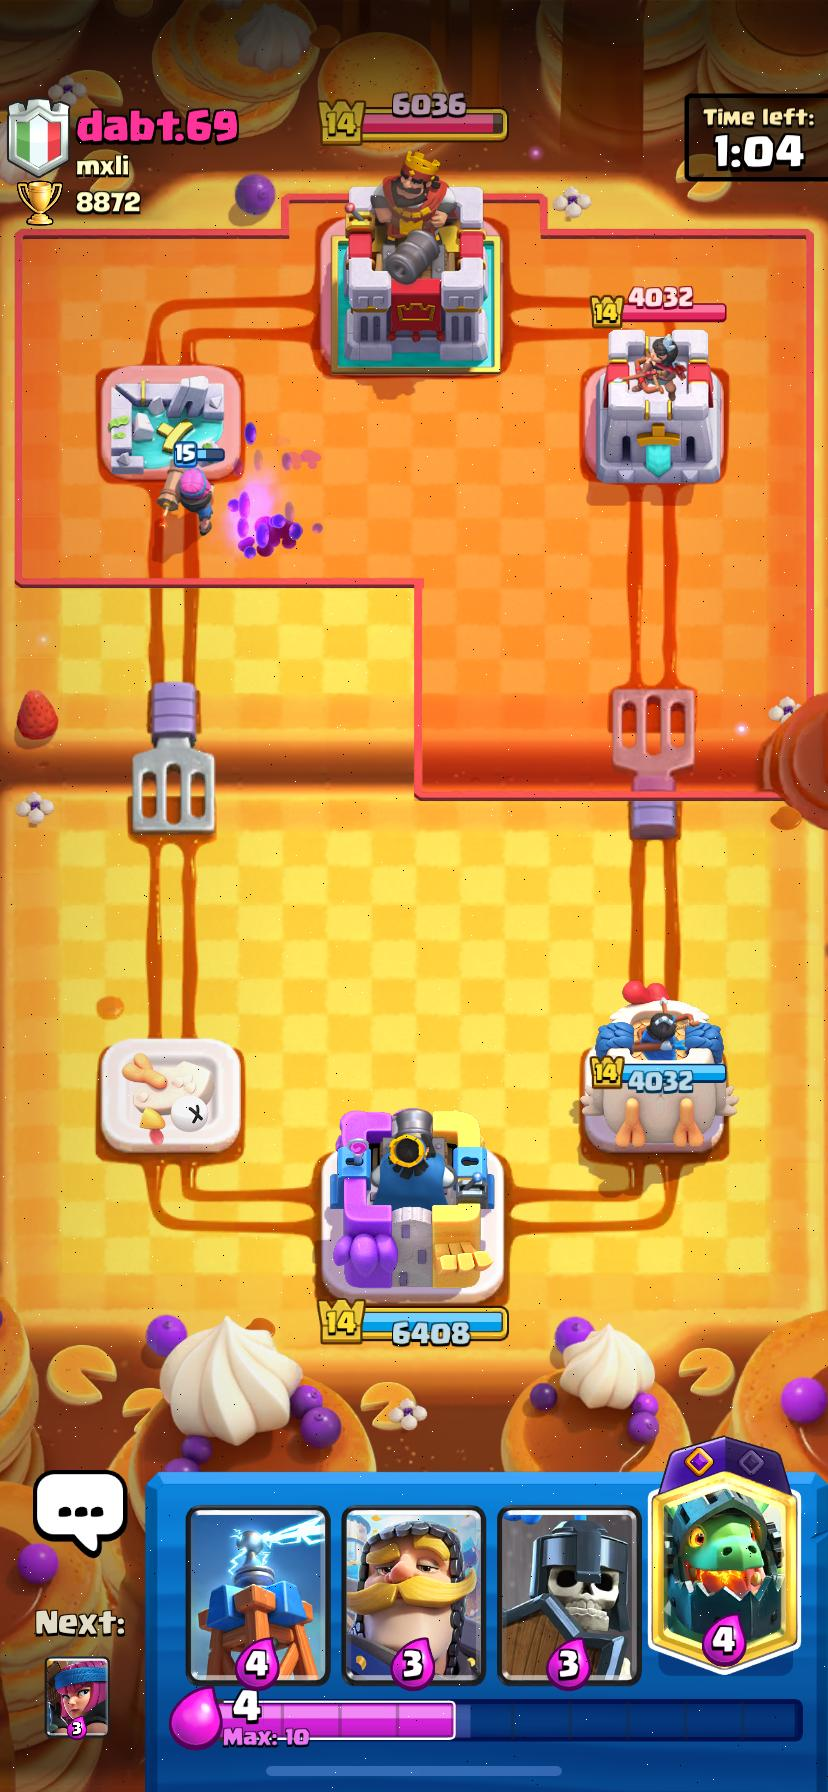EKingTower: (331, 154, 499, 375)
EnemyPrincessTower: (584, 329, 723, 485)
OFirecrack: (157, 462, 218, 535)
OwnKingTower: (321, 1109, 503, 1306)
OwnPrincessTower: (580, 983, 735, 1154)
TowerDown: (99, 1037, 242, 1155), (101, 366, 240, 478)
